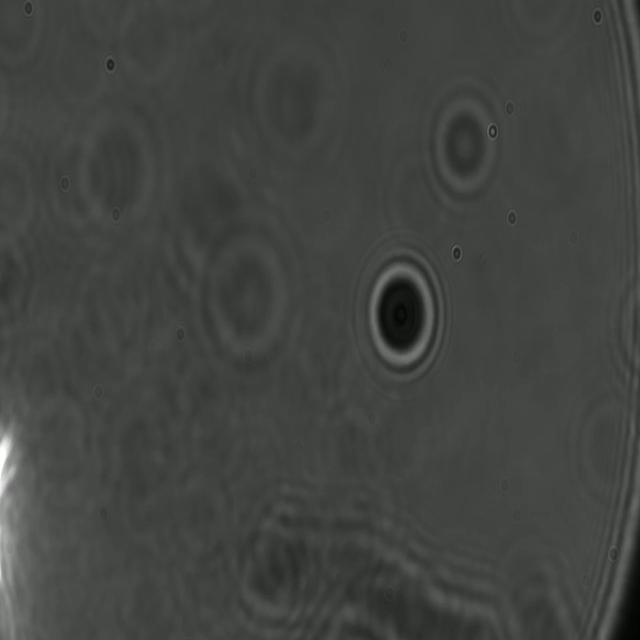DCELL: (362, 250, 446, 386)
